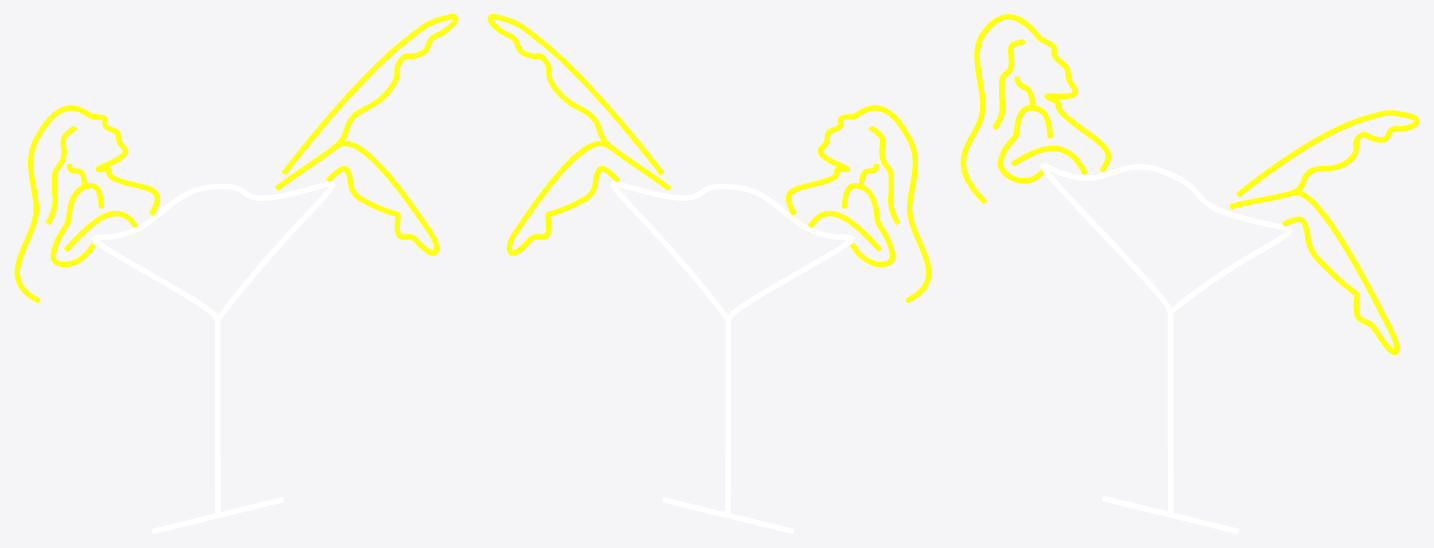
File: neon_martini.glb
The picture shows the model from 3 angles, left to right: view 1: azimuth 30°, elevation 25°; view 2: azimuth 150°, elevation 25°; view 3: azimuth 330°, elevation 25°; orthographic projection. The views are drawn at different scales.
Parts seen in each view (by area): view 1: martini_woman; view 2: martini_woman; view 3: martini_woman.
Part boxes in pixels (x1=…): martini_woman: x1=14, y1=14, x2=458, y2=533; martini_woman: x1=487, y1=14, x2=931, y2=533; martini_woman: x1=960, y1=14, x2=1419, y2=533.
Bounding box in the file's own units: 3 × 2.9 × 0.0318.
